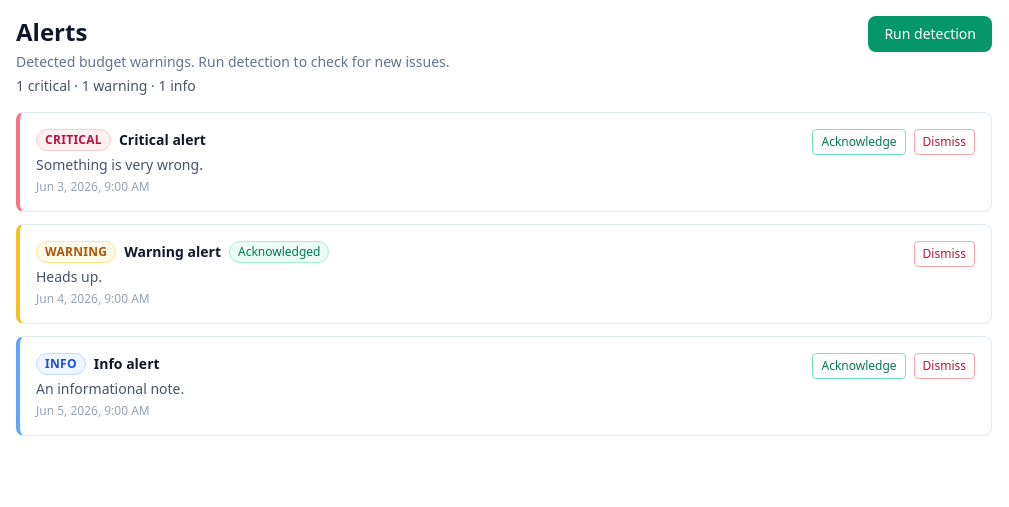
Test: AlertsPage › surfaces an error when detection fails
Click the button "Run detection".
click(930, 34)  # box [868, 16, 992, 52]
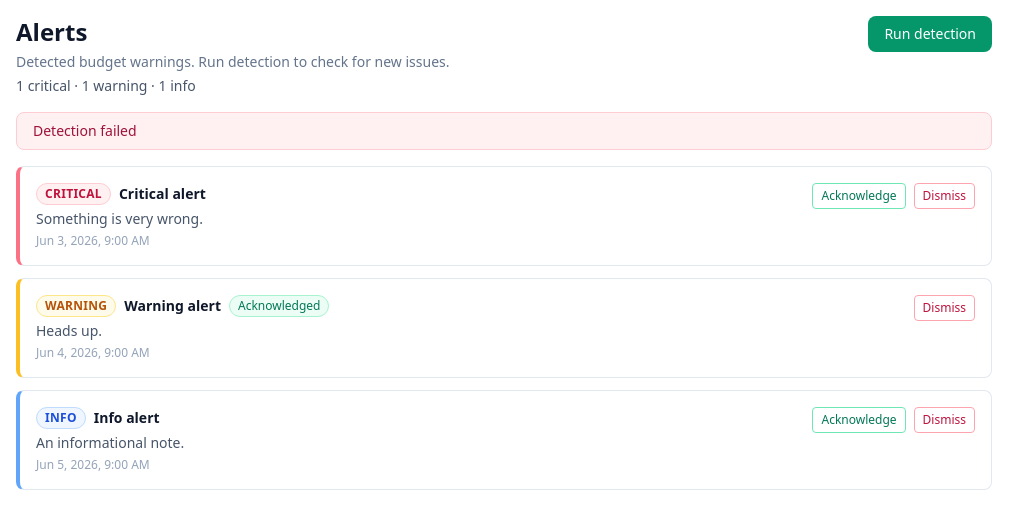
Check: the message reads "Detection failed", box [33, 121, 137, 140]
